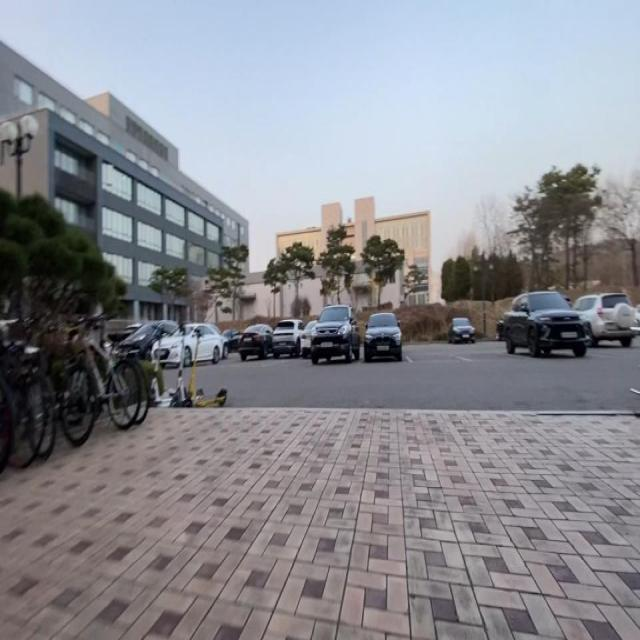sidewalk: (0, 406, 640, 640)
